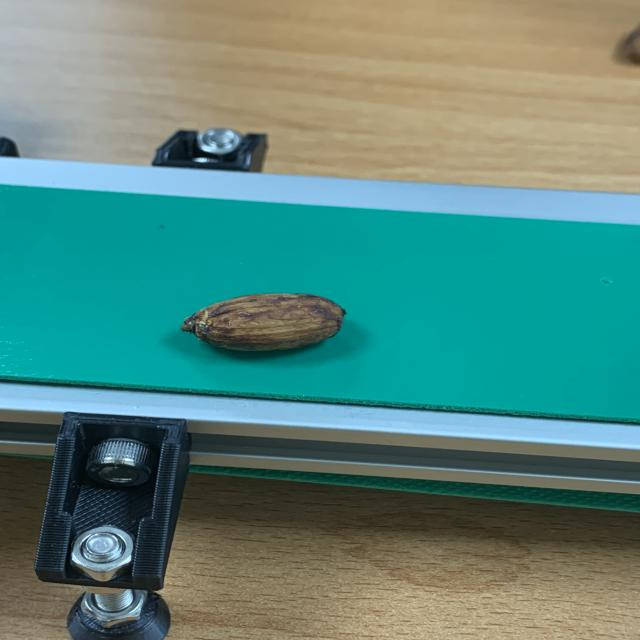Fine_cocoabeans: (143, 268, 423, 383)
